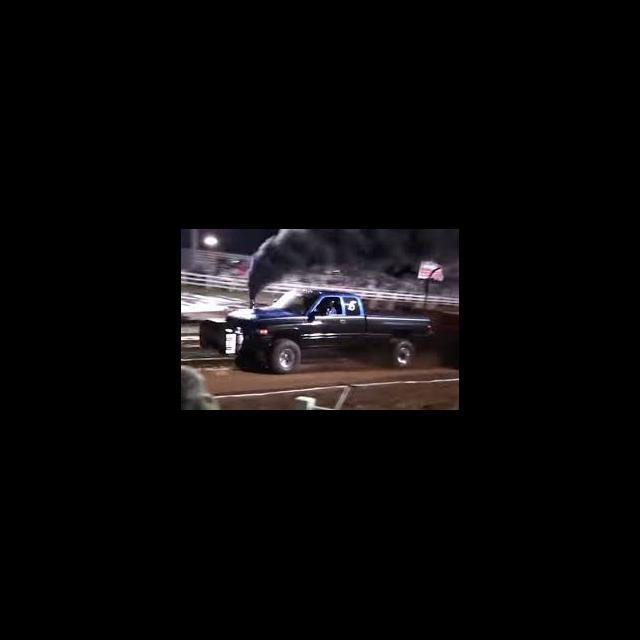Smoke: (245, 231, 415, 278)
